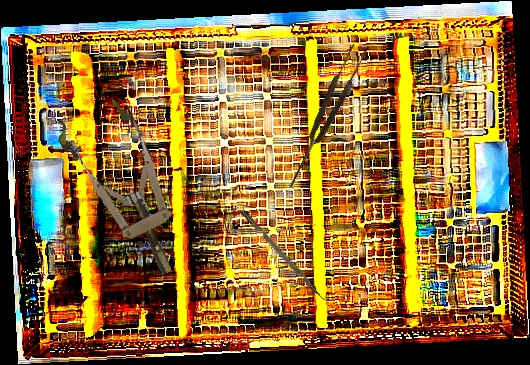Chopper: (239, 204, 334, 307)
Speculum: (51, 90, 201, 291)
Tissue Forceps: (280, 42, 370, 192)
